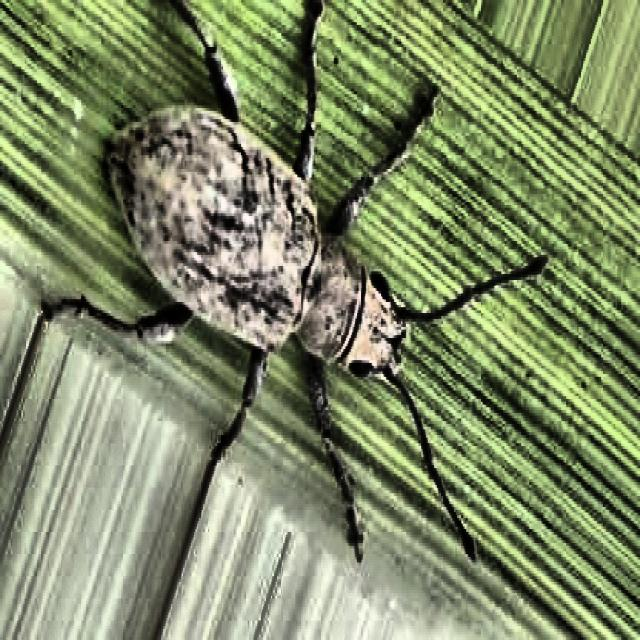Stink bug: (31, 4, 508, 570)
